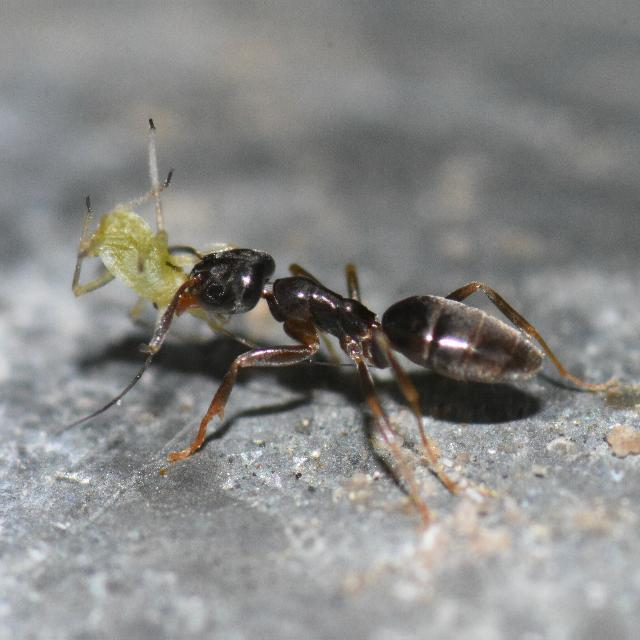Tapinoma: (129, 198, 586, 436)
